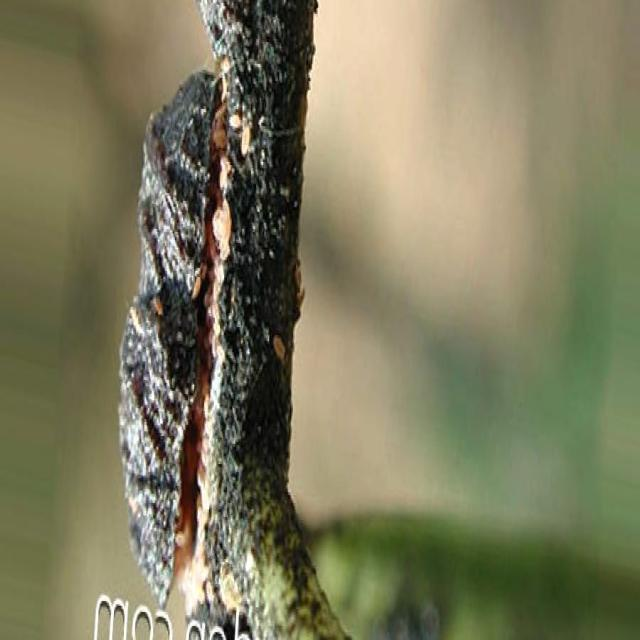BlackScale: (120, 70, 222, 606)
